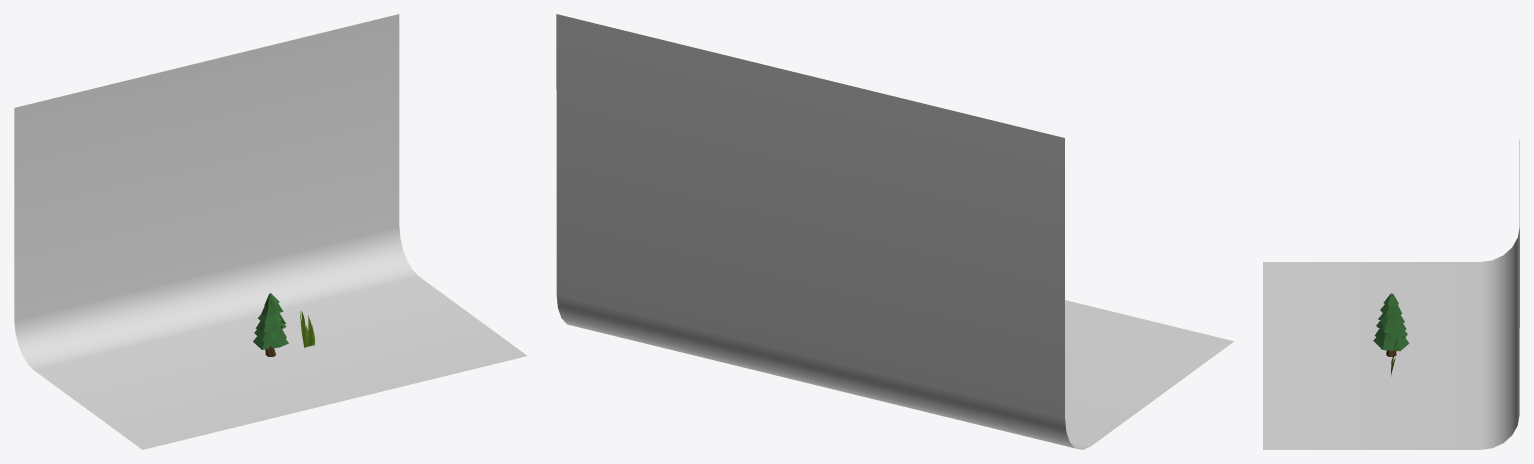
Rendered from Plant_3_and_Three.fbx.
The picture shows the model from 3 angles, left to right: view 1: azimuth 30°, elevation 25°; view 2: azimuth 150°, elevation 25°; view 3: azimuth 270°, elevation 25°; orthographic projection. The views are drawn at different scales.
Visible parts, largest first — view 1: Backdrop; view 2: Backdrop; view 3: Backdrop, Tree Crown 002, Tree Crown 001, Tree Crown 004.
Boxes of the visible parts, x1=… form: Backdrop: x1=14, y1=14, x2=527, y2=449; Backdrop: x1=556, y1=14, x2=1233, y2=449; Backdrop: x1=1263, y1=140, x2=1519, y2=449; Tree Crown 002: x1=1375, y1=327, x2=1407, y2=344; Tree Crown 001: x1=1373, y1=337, x2=1409, y2=351; Tree Crown 004: x1=1378, y1=313, x2=1404, y2=330.
Bounding box in the file's own units: 9749 × 6092 × 5632.
